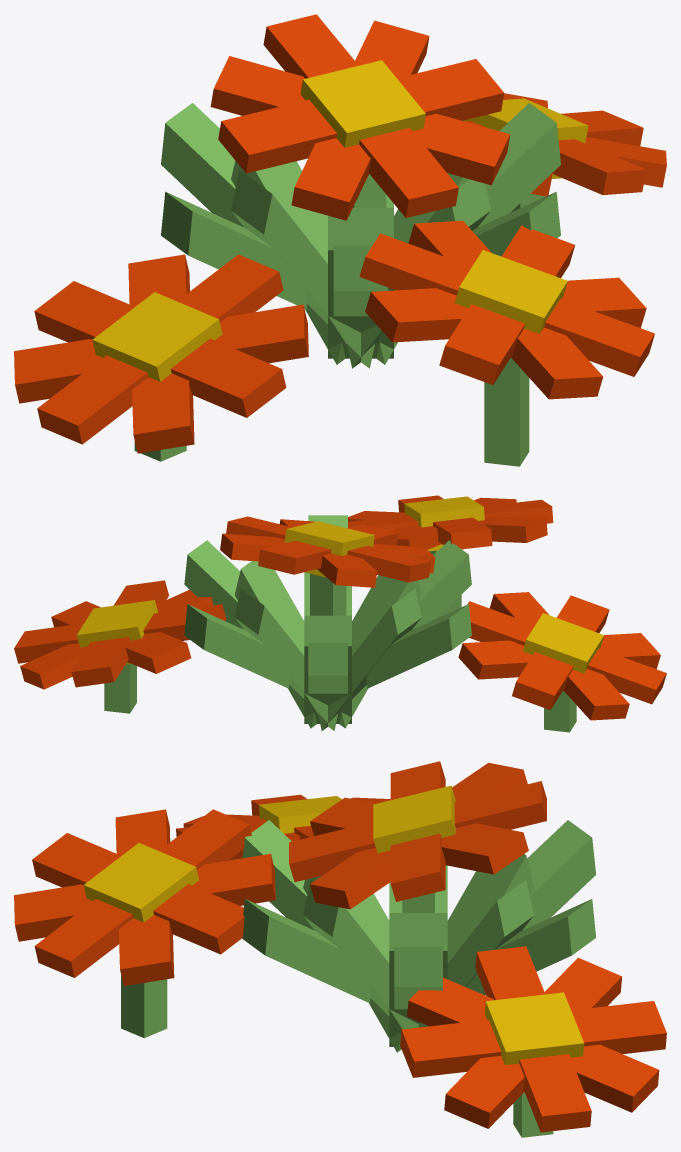
The model's file is SM_Flower_02_B.fbx.
3 views of the same model, one above another, from view 1: azimuth 30°, elevation 25°; view 2: azimuth 150°, elevation 25°; view 3: azimuth 270°, elevation 25° (orthographic). The views are drawn at different scales.
Parts seen in each view (by area): view 1: pCube438; view 2: pCube438; view 3: pCube438.
Boxes of the visible parts, x1,y1,x2,y2 form: pCube438: (14,14,666,466); pCube438: (14,495,666,732); pCube438: (14,761,666,1137).
Bounding box in the file's own units: 56.91 × 20.78 × 48.81.
